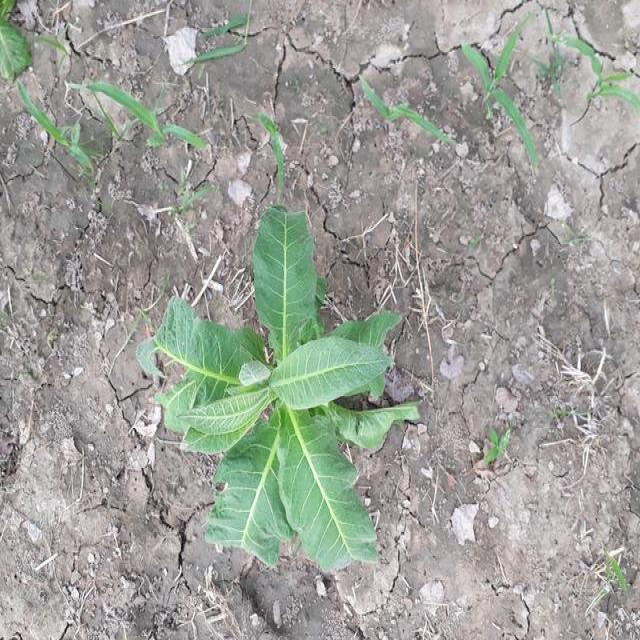crop: (158, 194, 410, 582)
